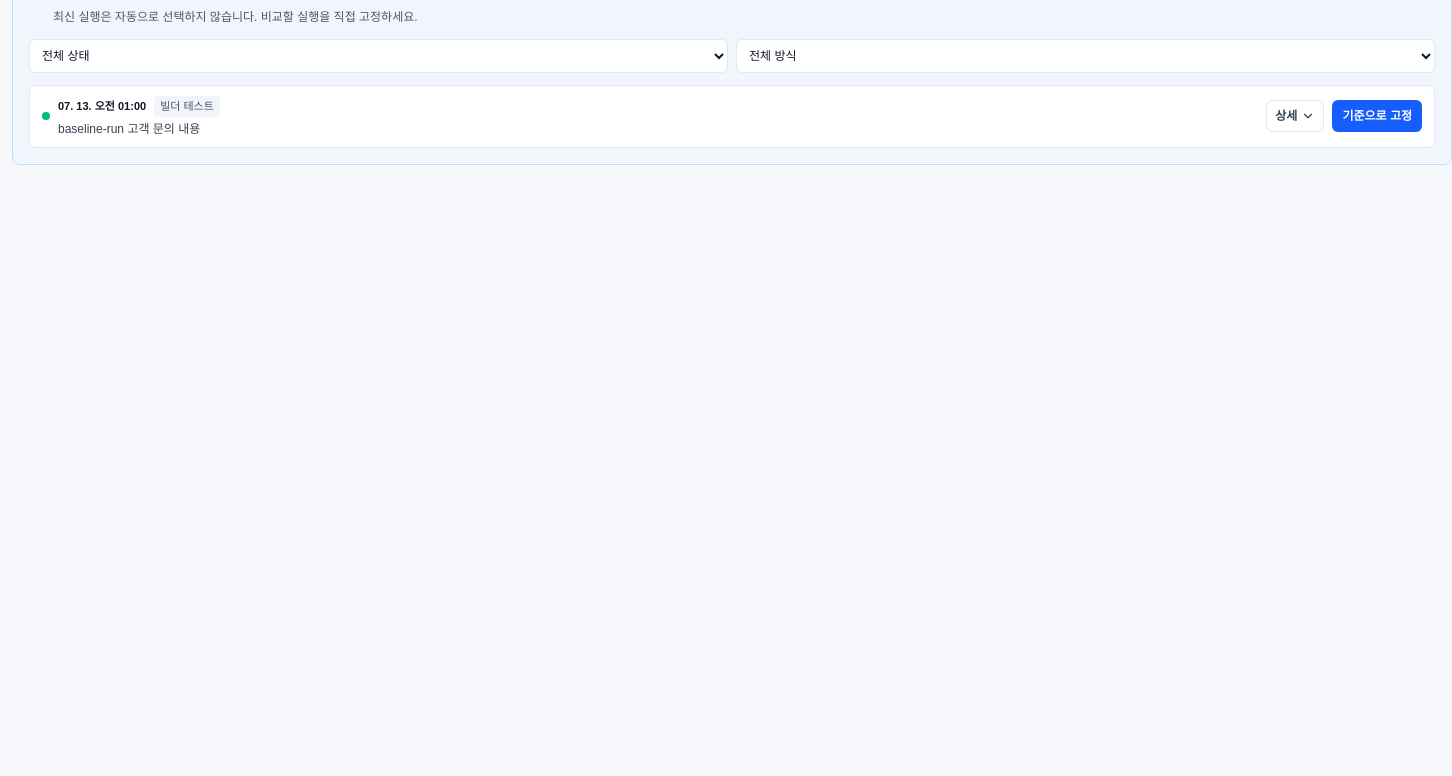
it: TestSidebar execution comparison › LLM 노드가 아닌 비교 카드에는 비용과 토큰을 표시하지 않는다
Click the button "기준으로 고정": (1377, 116) [1332,100,1422,132]
(page scrolled)
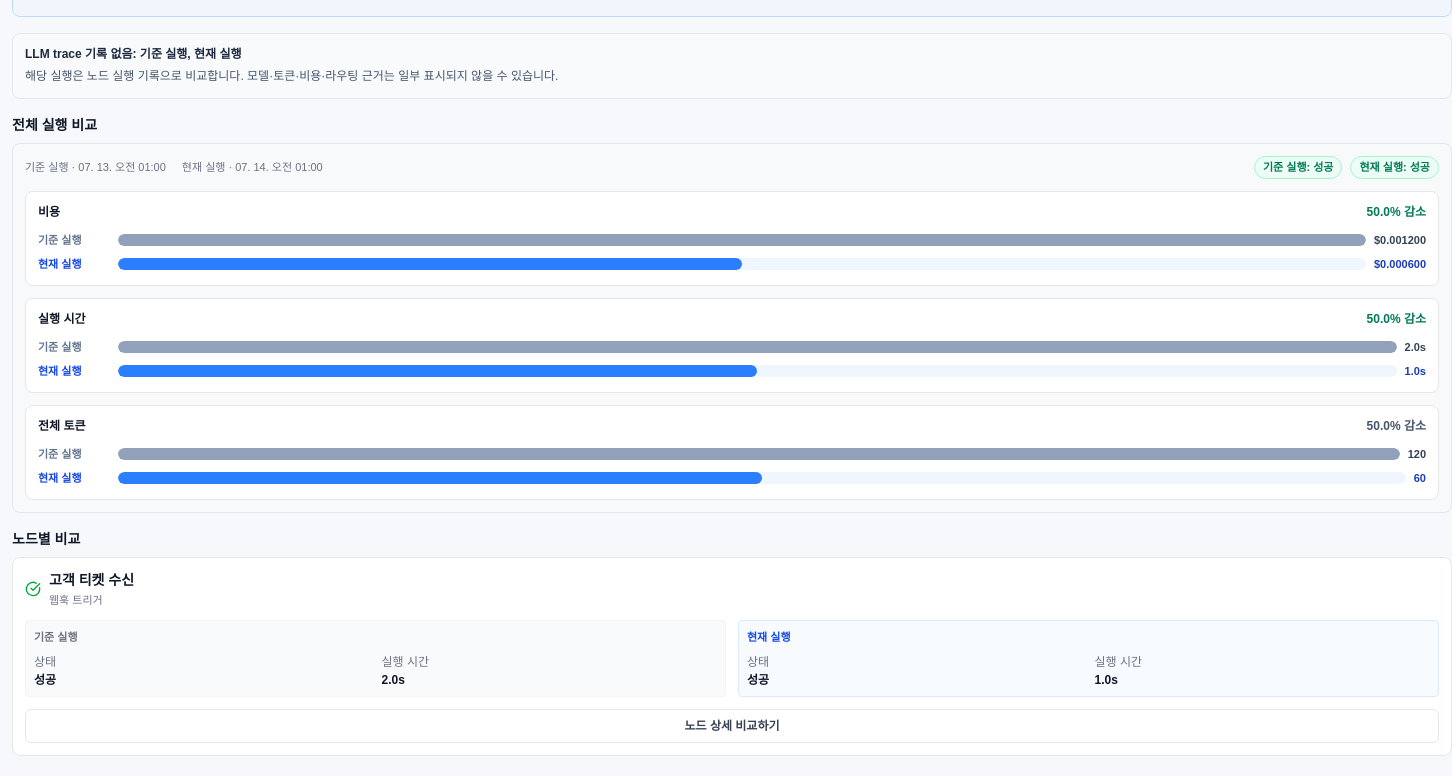
Now the text "고객 티켓 수신" is shown, box [49,572,134,588]
Now the text "상태" is shown 2 times, box [34,654,56,668]; [747,654,769,668]
Now the text "실행 시간" is shown 2 times, box [382,654,429,668]; [1094,654,1142,668]
